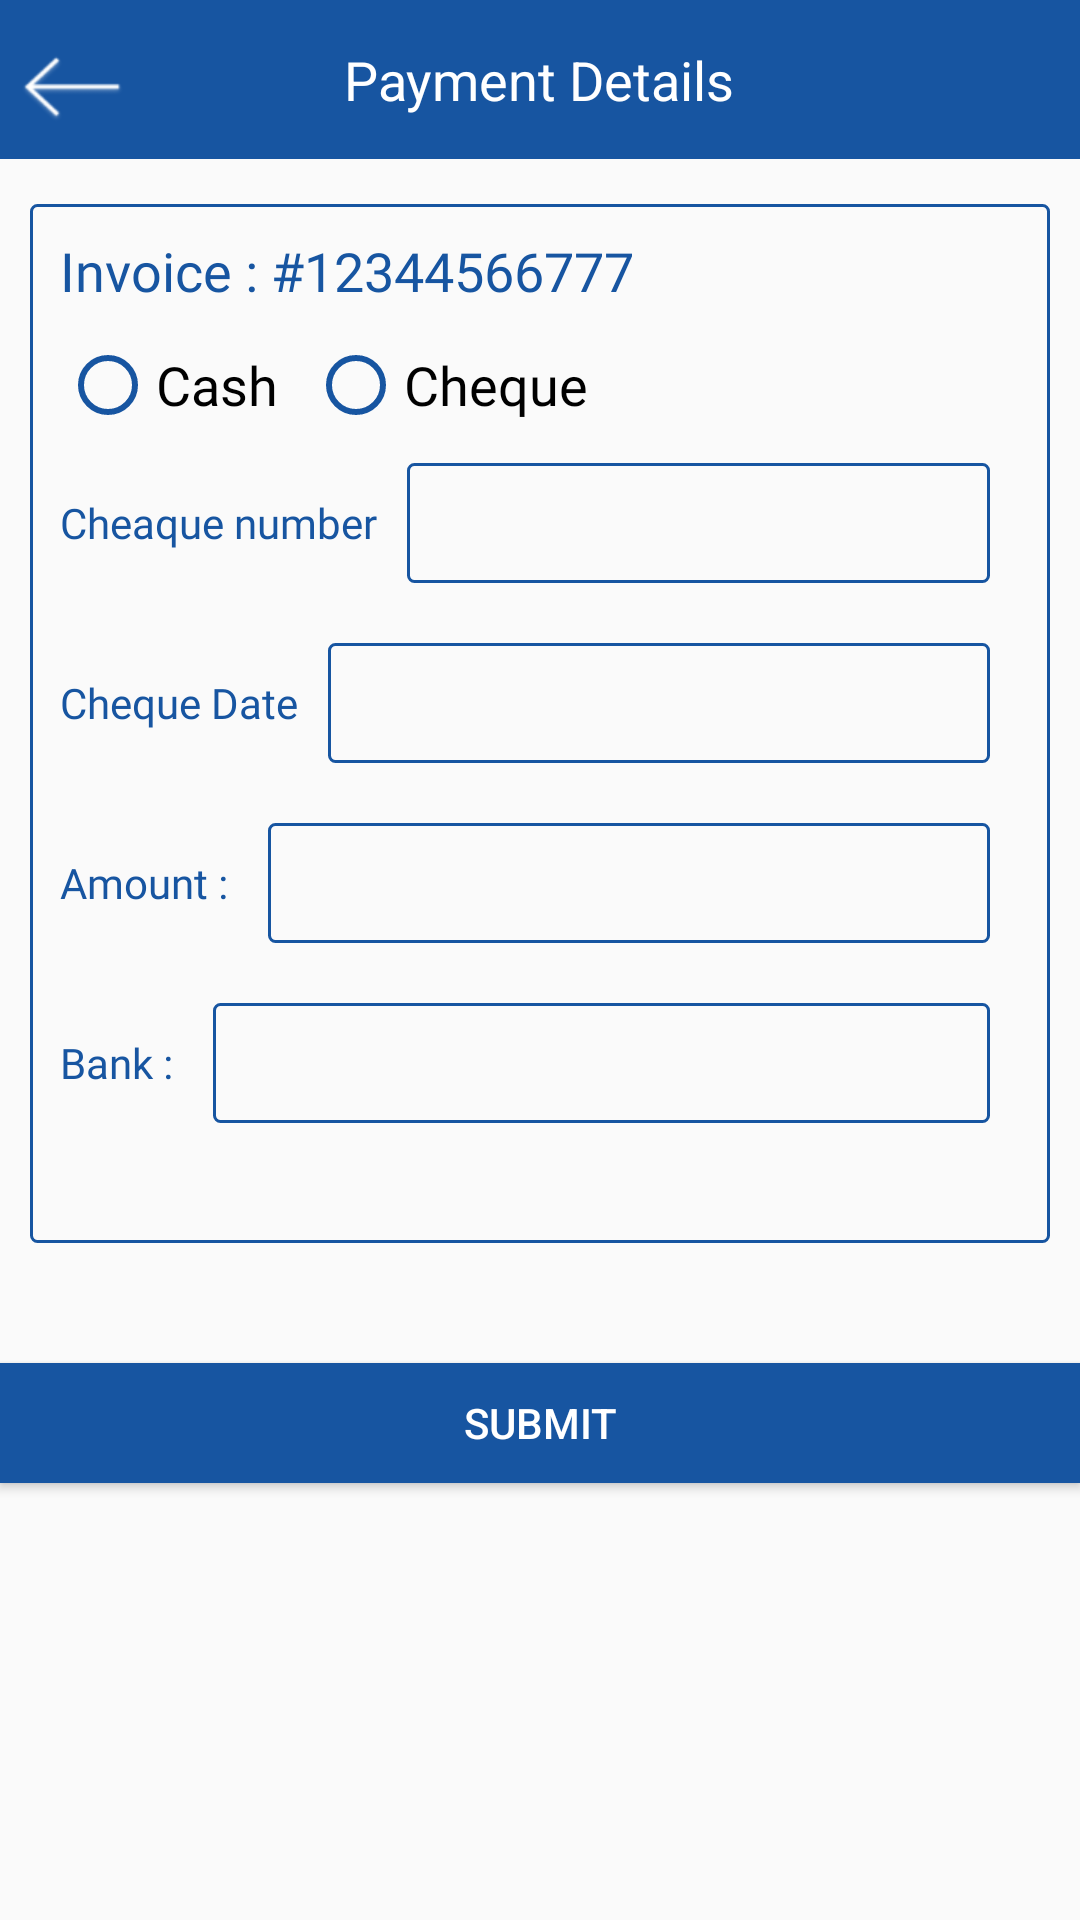

Screen size 1080 x 1920. Icon name, then its box in pixels as detection(x1, y1, x2, y2):
back: detection(24, 57, 120, 118)
